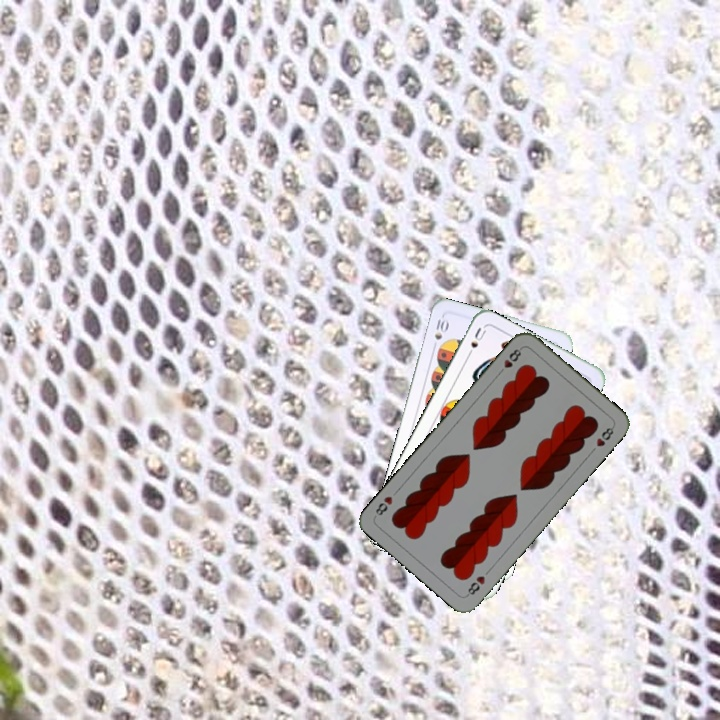H8: (494, 344, 525, 377), (463, 572, 488, 599)
S10: (429, 313, 451, 352)
SU: (462, 323, 489, 361)
